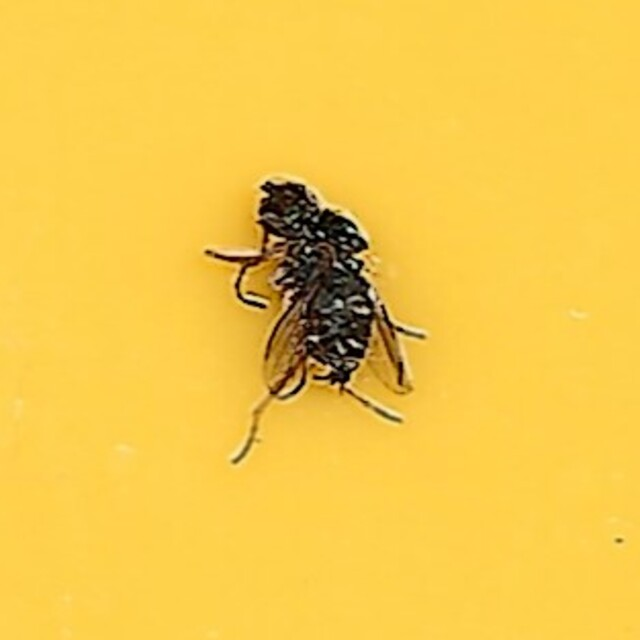Brachycera: (204, 178, 436, 462)
